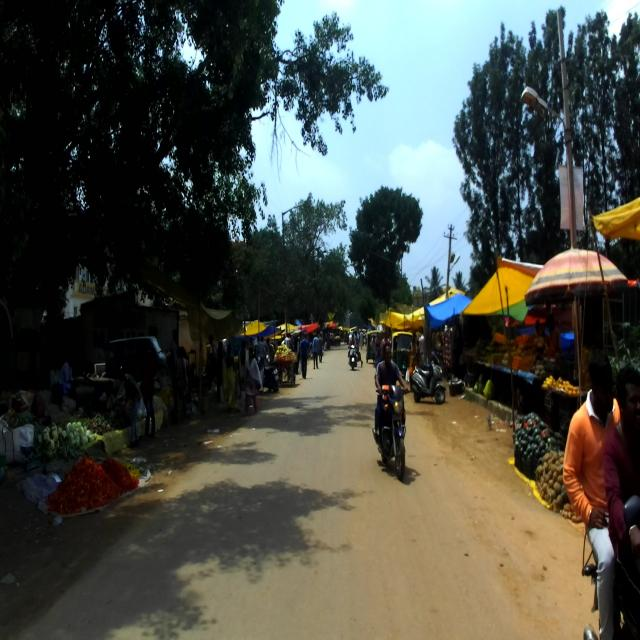motorcycle: (581, 488, 640, 638)
motorcycle_bajaj: (372, 383, 411, 480)
